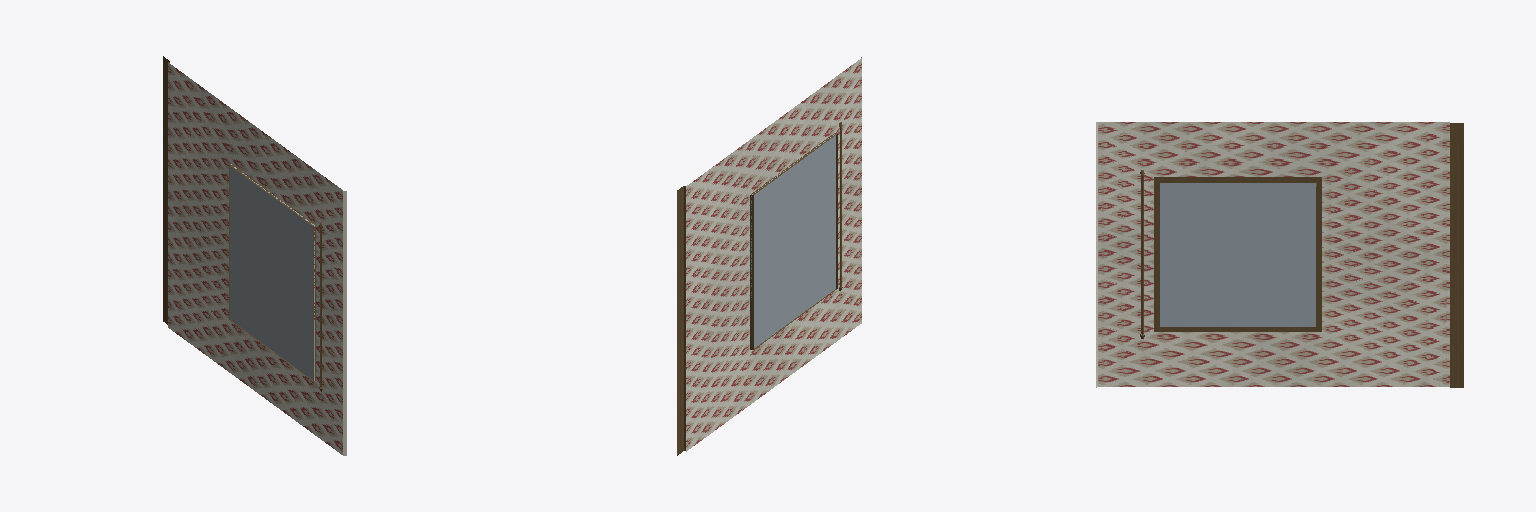
3 views of the same model, side by side, from view 1: azimuth 30°, elevation 25°; view 2: azimuth 150°, elevation 25°; view 3: azimuth 270°, elevation 25° (orthographic).
Parts seen in each view (by area): view 1: Plane, Window; view 2: Plane, Window; view 3: Plane, Window.
Boxes of the visible parts, x1,y1,x2,y2 form: Plane: [163, 56, 346, 455]; Window: [230, 164, 314, 380]; Plane: [677, 57, 861, 455]; Window: [751, 134, 835, 347]; Plane: [1096, 122, 1463, 387]; Window: [1160, 183, 1315, 326].
Bounding box in the file's own units: 0.1025 × 2 × 2.52.
2 materials, 1 textured.